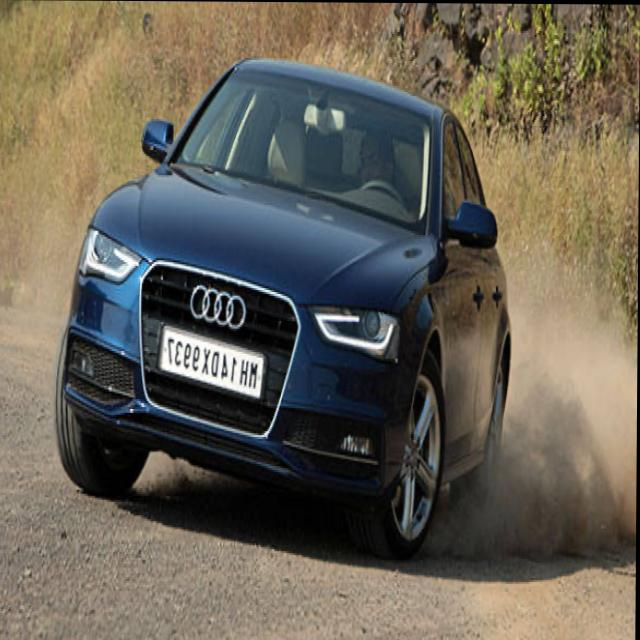licence: (150, 339, 276, 394)
